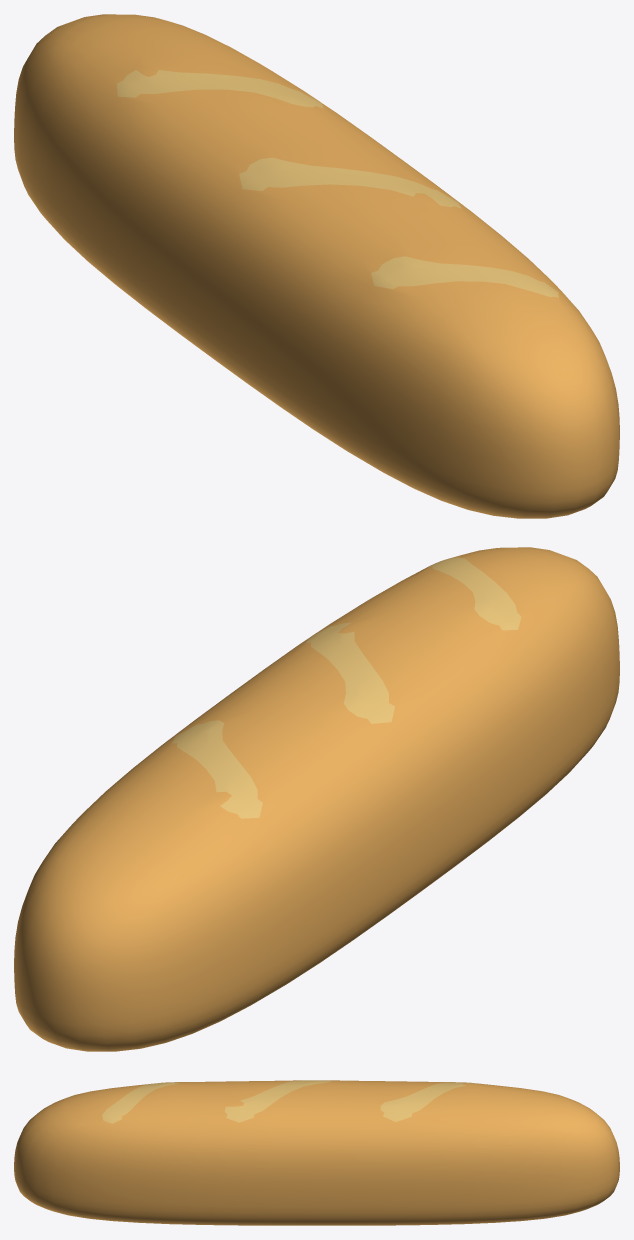
File: Bread.fbx
The picture shows the model from 3 angles, top to bottom: view 1: azimuth 30°, elevation 25°; view 2: azimuth 150°, elevation 25°; view 3: azimuth 270°, elevation 25°; orthographic projection. The views are drawn at different scales.
Visible parts, largest first — view 1: 立方体; view 2: 立方体; view 3: 立方体.
Part boxes in pixels (x1,y1,x2,y2): 立方体: (14,14,619,518); 立方体: (14,547,619,1051); 立方体: (14,1080,619,1225).
Bounding box in the file's own units: 0.3494 × 0.2909 × 1.37.
